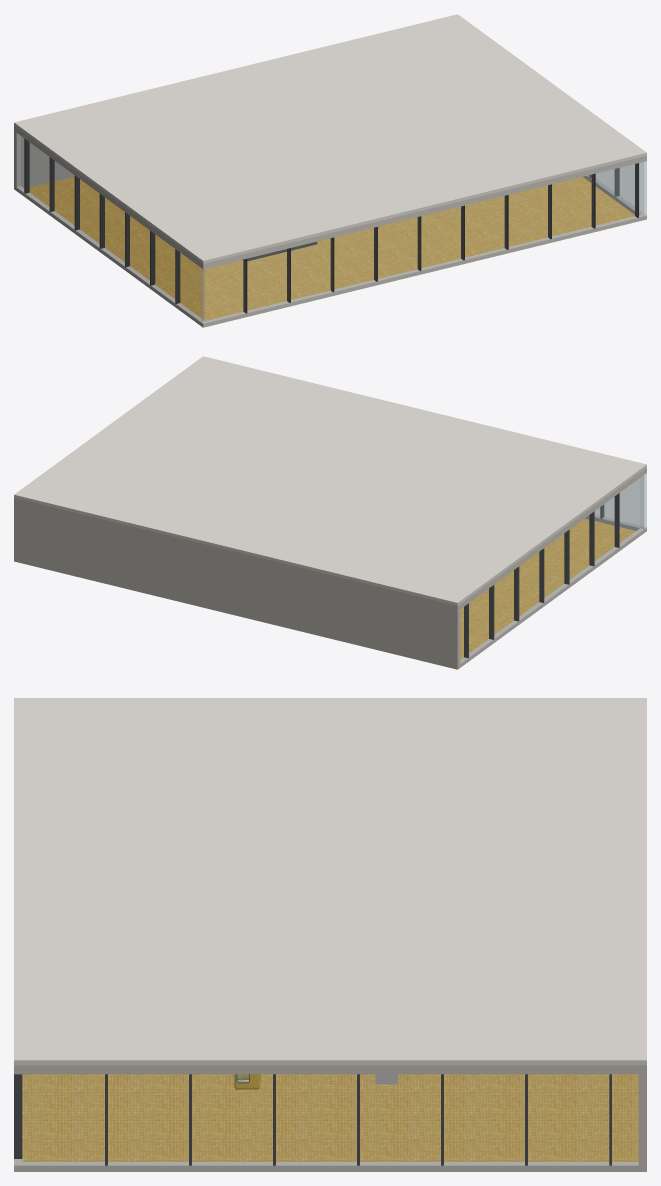
The model's file is inner-12.glb.
3 renders of one model, top to bottom at view 1: azimuth 30°, elevation 25°; view 2: azimuth 150°, elevation 25°; view 3: azimuth 270°, elevation 25°, orthographic. The views are drawn at different scales.
Visible parts, largest first — view 1: IN_ceiling, IN_floor, IN_glass_s, IN_glass_w, IN_wall_s_sill, IN_wall_s_head, IN_wall_n, IN_wall_w_sill, IN_glass_e, IN_wall_w_head; view 2: IN_ceiling, IN_wall_n, IN_glass_w, IN_floor, IN_wall_w_sill, IN_glass_s, IN_wall_w_head; view 3: IN_ceiling, IN_glass_e, IN_floor, IN_wall_e_head, IN_wall_e_sill, IN_wall_n, IN_mullion_s_10, IN_glass_s.
Part boxes in pixels (left/top/right/bottom): IN_ceiling: left=14, top=14, right=646, bottom=263; IN_floor: left=29, top=177, right=634, bottom=320; IN_glass_s: left=201, top=161, right=646, bottom=323; IN_glass_w: left=17, top=133, right=204, bottom=321; IN_wall_s_sill: left=200, top=214, right=646, bottom=327; IN_wall_s_head: left=200, top=156, right=646, bottom=269; IN_wall_n: left=14, top=126, right=74, bottom=190; IN_wall_w_sill: left=16, top=186, right=203, bottom=325; IN_glass_e: left=588, top=162, right=643, bottom=214; IN_wall_w_head: left=16, top=128, right=200, bottom=266; IN_ceiling: left=14, top=356, right=646, bottom=605; IN_wall_n: left=14, top=498, right=460, bottom=669; IN_glass_w: left=460, top=475, right=643, bottom=663; IN_floor: left=460, top=518, right=635, bottom=659; IN_wall_w_sill: left=460, top=528, right=644, bottom=667; IN_glass_s: left=595, top=473, right=646, bottom=528; IN_wall_w_head: left=460, top=470, right=644, bottom=608; IN_ceiling: left=14, top=698, right=646, bottom=1065; IN_glass_e: left=22, top=1074, right=638, bottom=1165; IN_floor: left=22, top=1074, right=638, bottom=1161; IN_wall_e_head: left=22, top=1065, right=638, bottom=1074; IN_wall_e_sill: left=22, top=1162, right=638, bottom=1171; IN_wall_n: left=638, top=1065, right=646, bottom=1171; IN_mullion_s_10: left=14, top=1074, right=22, bottom=1158; IN_glass_s: left=14, top=1075, right=21, bottom=1164.
Size of the model in its own units: 30.6 by 4.4 by 22.6.
Materials: 11 (5 with a texture image).
